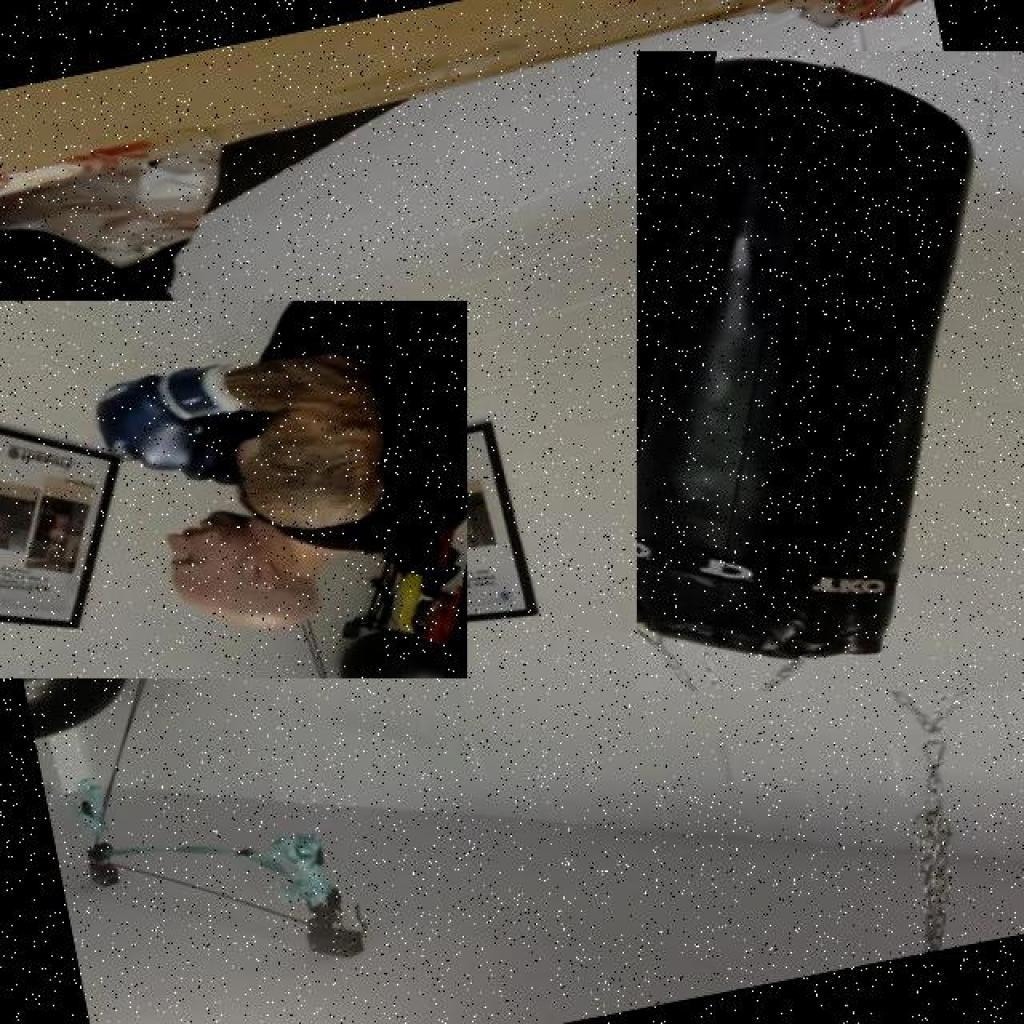bag: (637, 51, 1024, 692)
no punch: (0, 300, 467, 678)
